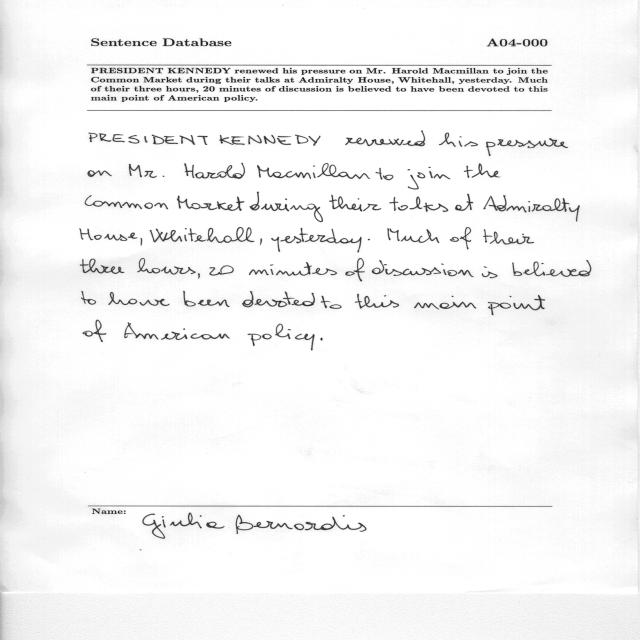word: (483, 195, 580, 222), (271, 228, 362, 253), (250, 192, 323, 222), (124, 322, 230, 340), (257, 163, 370, 179), (248, 324, 315, 350), (372, 260, 474, 277), (150, 227, 255, 243), (486, 138, 568, 156), (89, 133, 208, 145), (512, 260, 592, 277), (249, 262, 337, 276), (345, 131, 425, 146), (242, 291, 315, 307), (86, 195, 169, 209), (488, 295, 545, 315), (220, 135, 321, 146), (407, 167, 451, 190), (177, 196, 244, 211), (137, 258, 196, 275), (184, 163, 245, 179), (389, 196, 448, 212), (329, 195, 381, 212), (109, 292, 170, 306), (483, 229, 534, 245), (414, 296, 476, 309), (388, 228, 440, 243), (80, 228, 138, 241), (183, 291, 230, 307), (81, 258, 125, 274), (355, 294, 399, 309), (464, 163, 501, 178), (439, 133, 478, 147), (83, 320, 106, 342), (129, 164, 164, 178), (345, 258, 365, 282), (450, 228, 471, 250), (455, 193, 473, 211), (209, 265, 234, 276), (321, 296, 342, 309), (376, 168, 394, 180), (81, 291, 96, 305), (482, 267, 498, 279), (88, 170, 112, 177), (141, 238, 143, 246), (260, 239, 262, 246), (198, 273, 200, 279), (321, 338, 323, 341), (368, 239, 370, 240)
